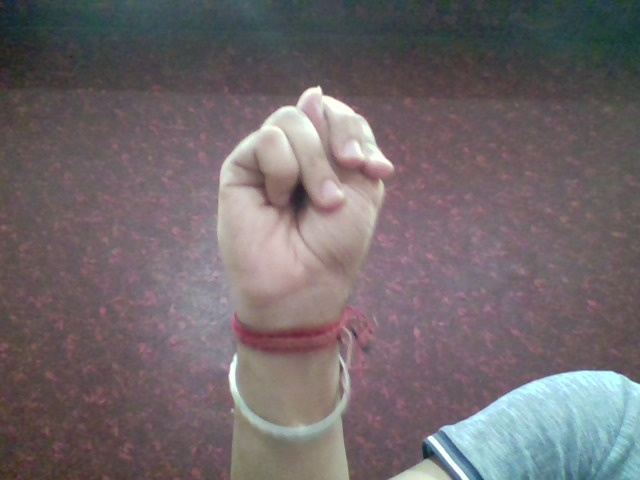n: (201, 81, 404, 321)
